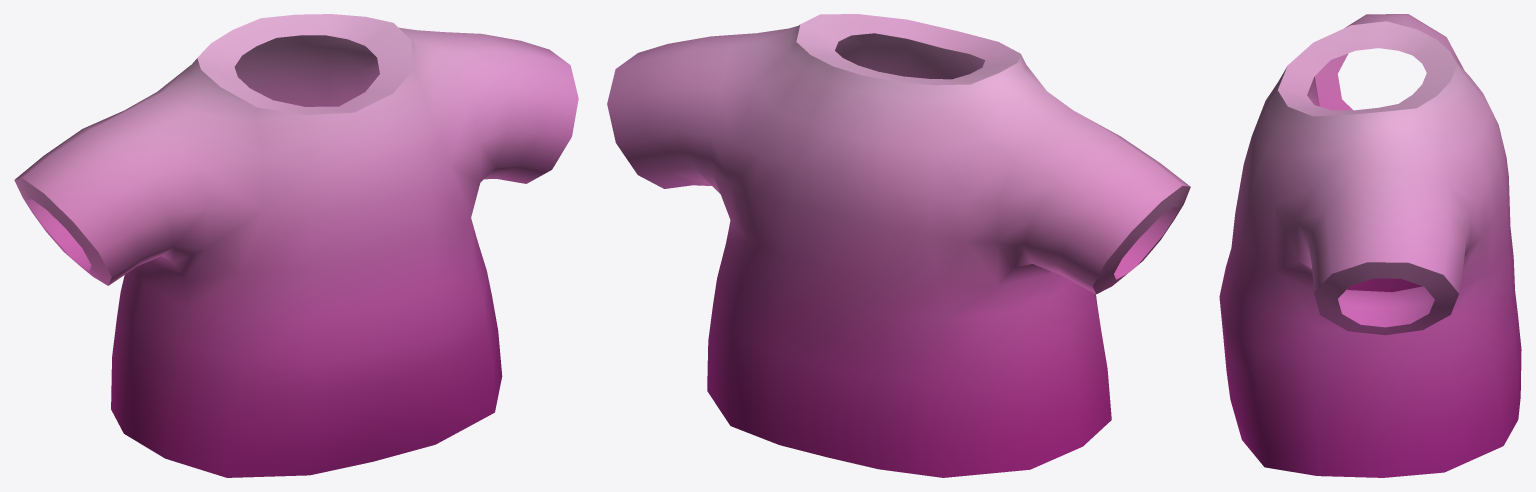
The model's file is Outwear_45.glb.
3 renders of one model, left to right at view 1: azimuth 30°, elevation 25°; view 2: azimuth 150°, elevation 25°; view 3: azimuth 270°, elevation 25°, orthographic. The views are drawn at different scales.
Parts seen in each view (by area): view 1: Outwear_45; view 2: Outwear_45; view 3: Outwear_45.
Part boxes in pixels (bbox=[...]): Outwear_45: bbox=[14, 14, 578, 477]; Outwear_45: bbox=[607, 14, 1190, 477]; Outwear_45: bbox=[1219, 14, 1521, 477].
Size of the model in its own units: 0.4016 by 0.2627 by 0.2076.
Materials: 1 (1 with a texture image).
